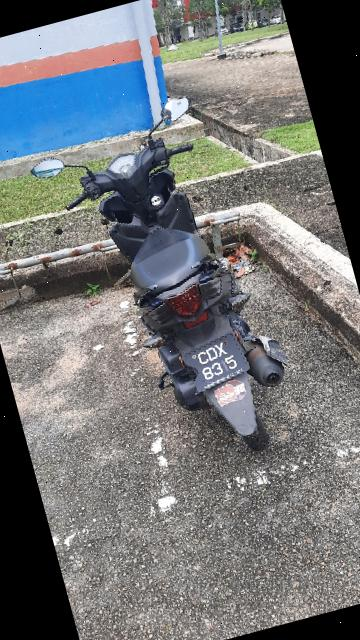License_Plate: (176, 325, 269, 396)
motorcycle: (50, 105, 317, 489)
